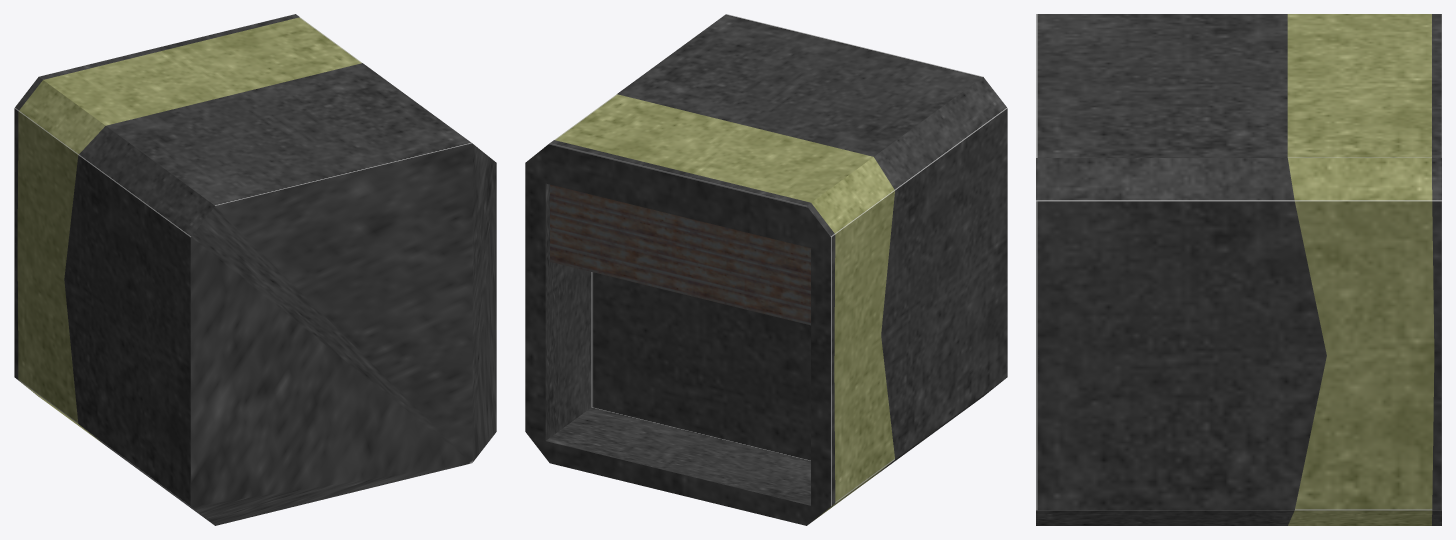
File: Medium3.fbx
The picture shows the model from 3 angles, left to right: view 1: azimuth 30°, elevation 25°; view 2: azimuth 150°, elevation 25°; view 3: azimuth 270°, elevation 25°; orthographic projection. The views are drawn at different scales.
Visible parts, largest first — view 1: Part_8; view 2: Part_8; view 3: Part_8.
Part boxes in pixels (<box>): Part_8: <box>14,14,496,525</box>; Part_8: <box>525,14,1007,525</box>; Part_8: <box>1036,14,1441,525</box>.
Size of the model in its own units: 40.84 by 40.84 by 40.84.
